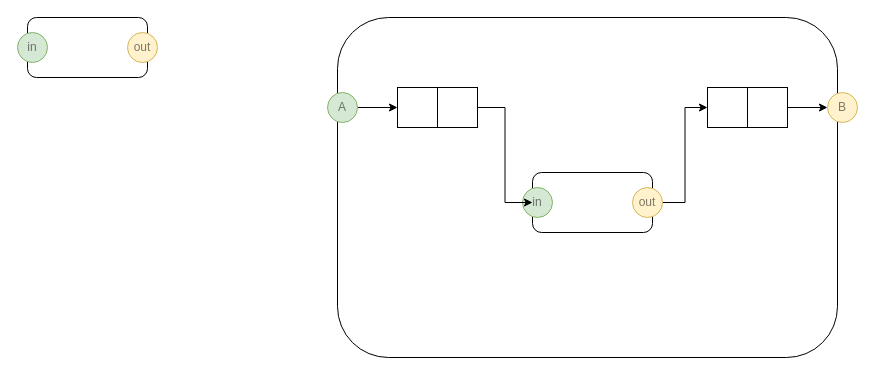
This 875x375 diagram has some shape labels left out. The shapes that lost their labels are listed below. From the top down, each one's box as (x1, y1, x2, y2) in pixels, then its label:
(26, 16, 148, 78): hwapp123
(336, 16, 838, 358): hwsub23
(532, 172, 652, 232): hwhello
